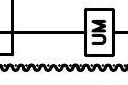MU: (83, 7, 116, 58)
